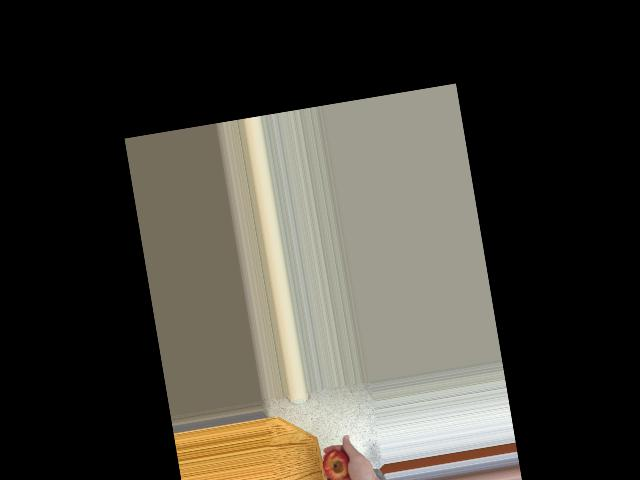apple: (319, 446, 355, 480)
